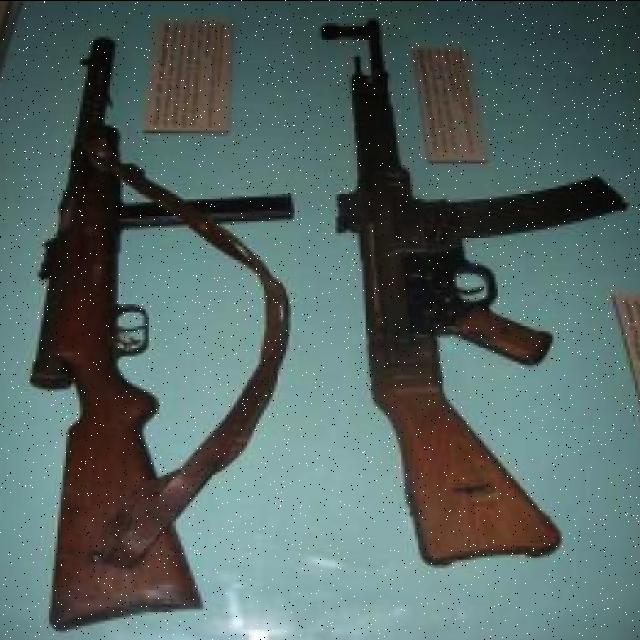Rifle: (319, 18, 624, 565), (33, 32, 290, 623)
